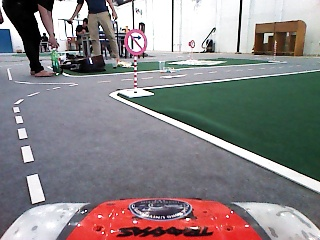ban_right: (124, 29, 148, 56)
